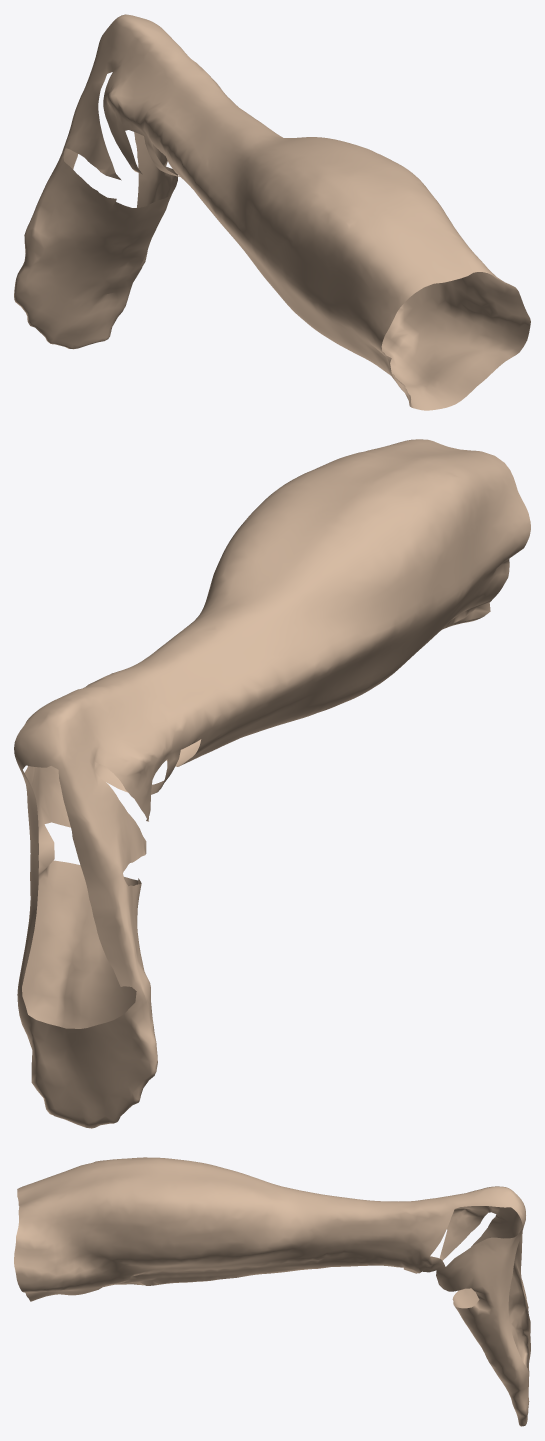
3 views of the same model, one above another, from view 1: azimuth 30°, elevation 25°; view 2: azimuth 150°, elevation 25°; view 3: azimuth 270°, elevation 25° (orthographic). The views are drawn at different scales.
Parts seen in each view (by area): view 1: 右侧小腿筋膜; view 2: 右侧小腿筋膜; view 3: 右侧小腿筋膜.
Boxes of the visible parts, box(x1,y1,x2,y2) form: 右侧小腿筋膜: box(14, 14, 530, 410); 右侧小腿筋膜: box(14, 439, 530, 1128); 右侧小腿筋膜: box(14, 1157, 530, 1426).
Size of the model in its own units: 0.1782 by 0.3603 by 0.6512.
